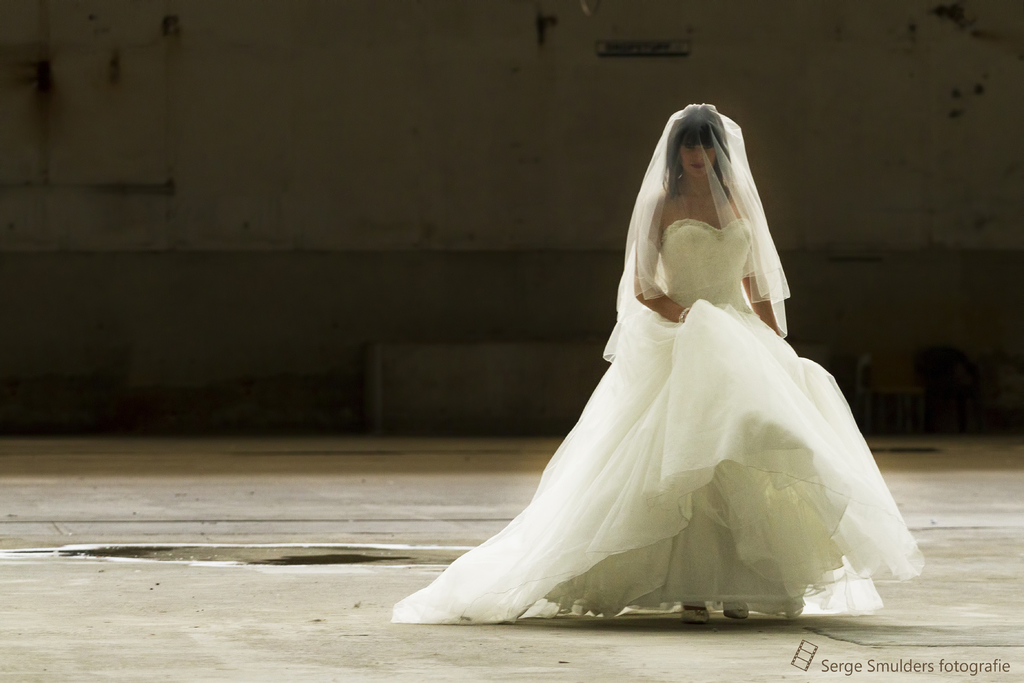Footwear: (677, 608, 714, 625), (728, 603, 752, 620)
